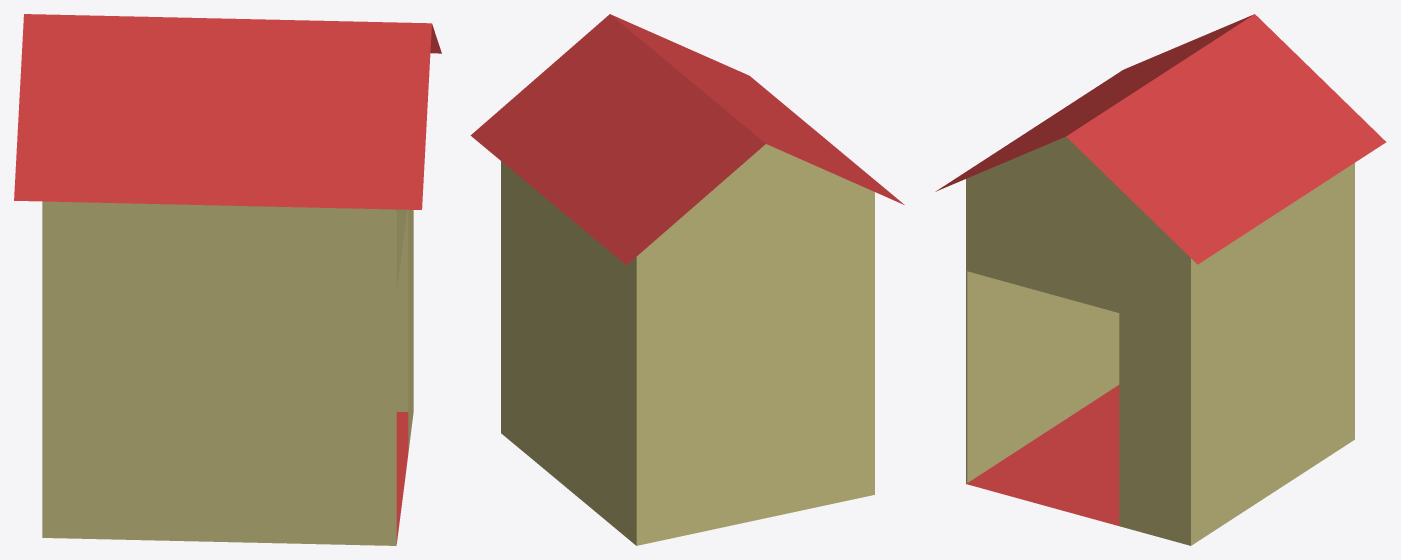
3 views of the same model, side by side, from view 1: azimuth 30°, elevation 25°; view 2: azimuth 150°, elevation 25°; view 3: azimuth 270°, elevation 25° (orthographic). The views are drawn at different scales.
Size of the model in its own units: 15.16 by 14.86 by 14.02.
